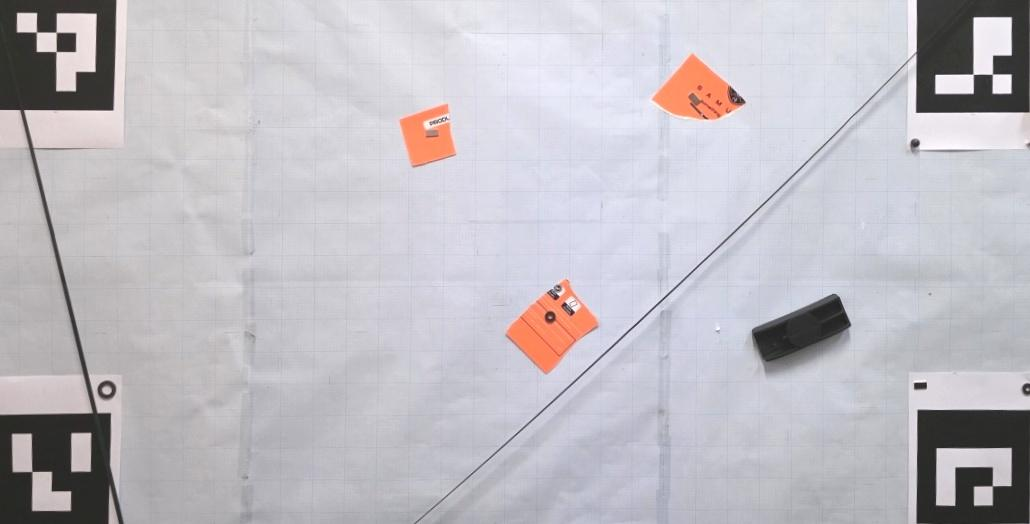obstacle: (505, 278, 599, 374), (752, 293, 852, 363), (650, 52, 746, 121), (398, 105, 456, 167)
